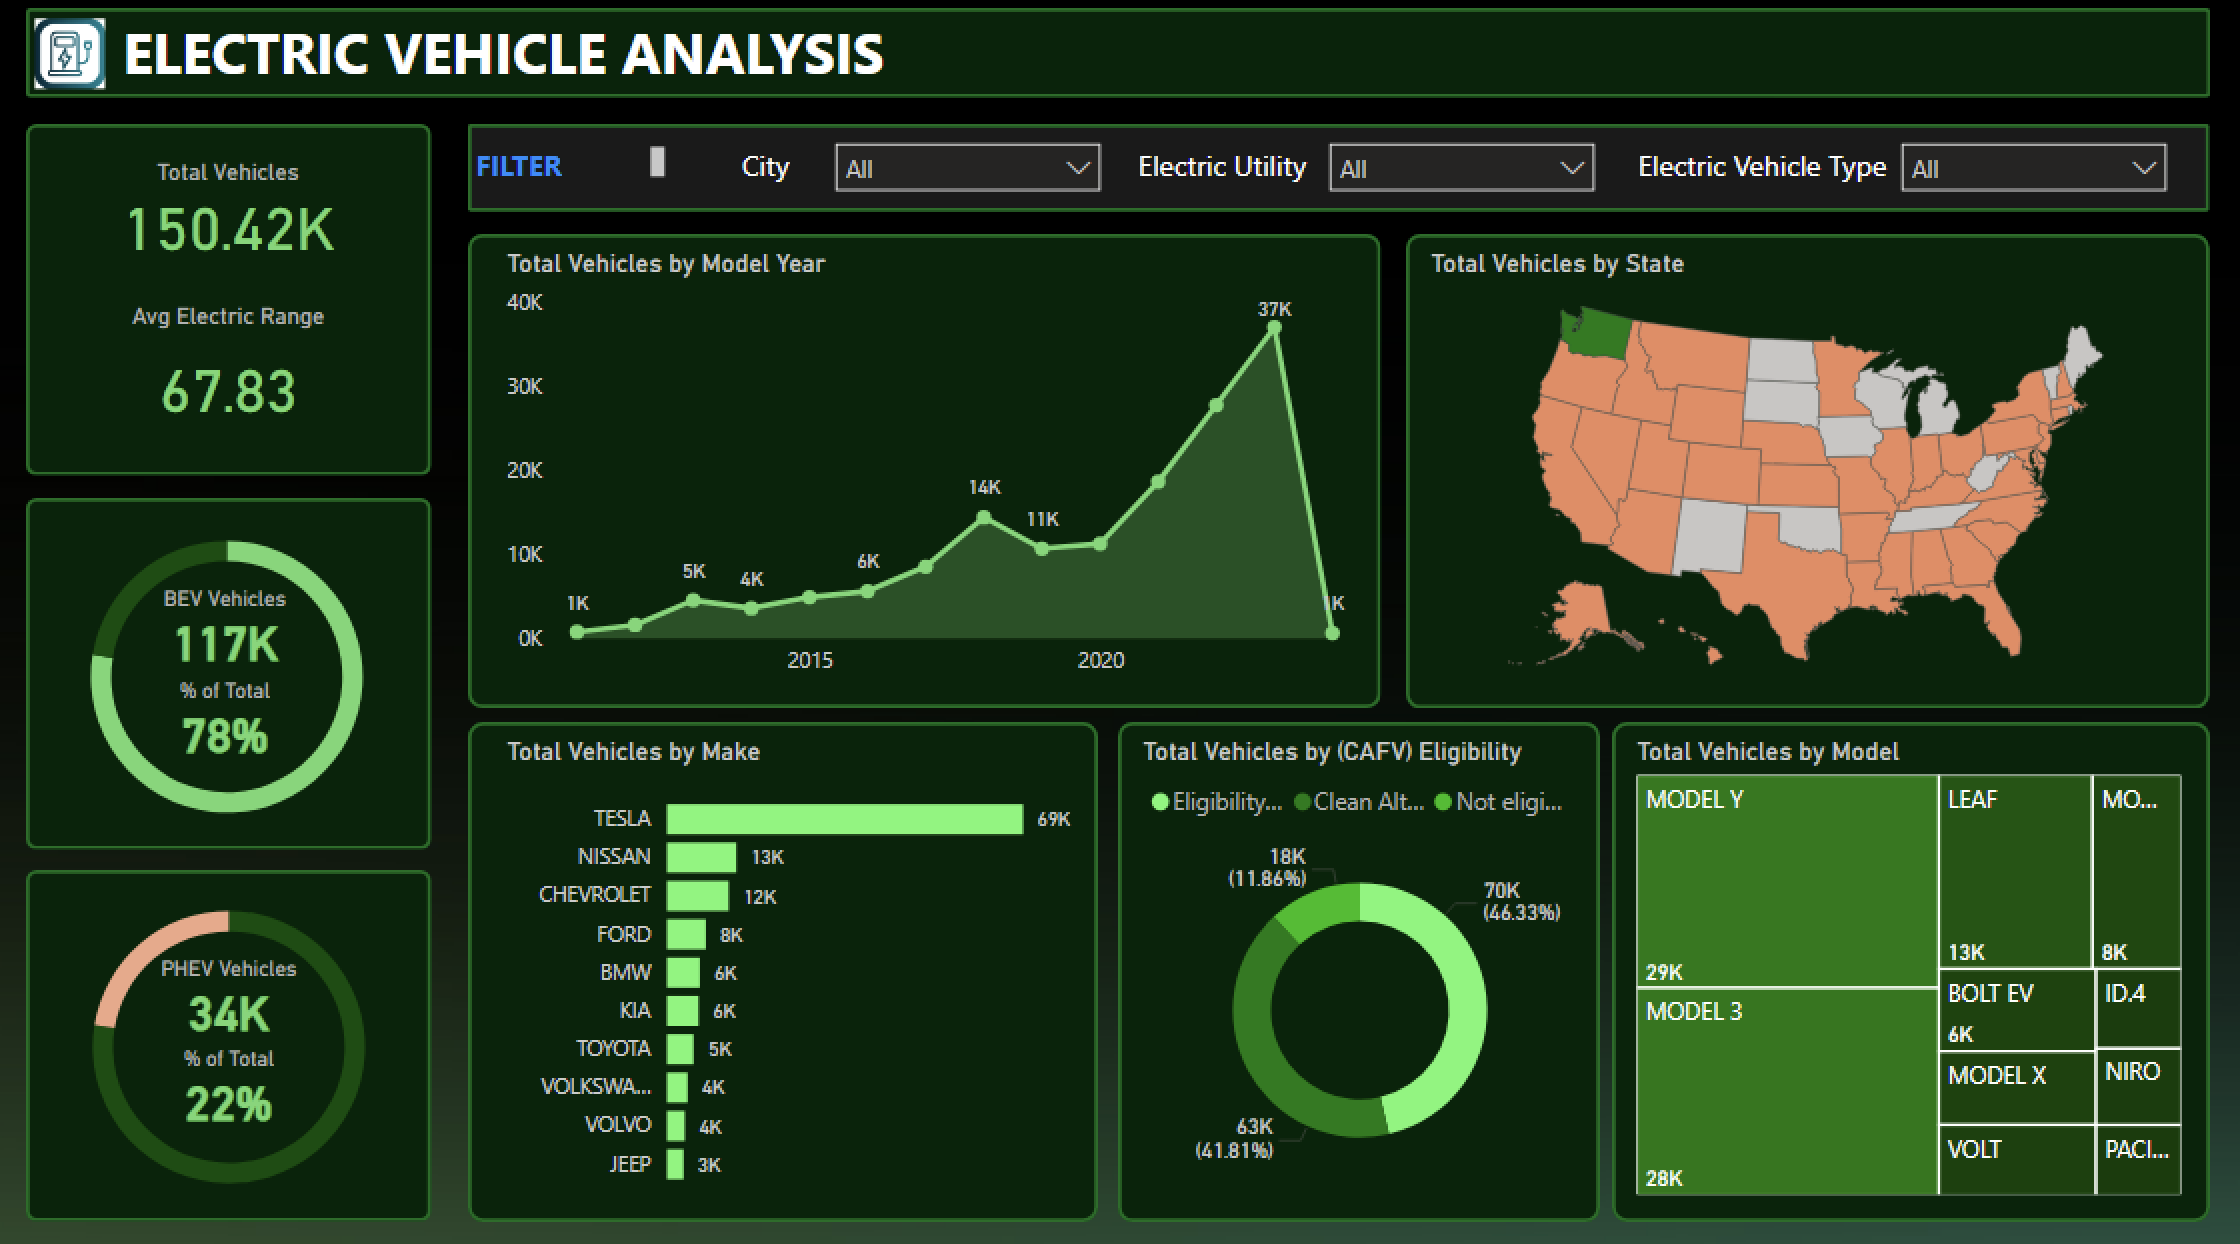

Layout of this report page (visuals, bound fields, positions):
{"tool":"powerbi","page":{"name":"Page 1","canvas":[1280,720],"ordinal":0},"visuals":[{"type":"shape","box":[17.8,10.2,1244.3,51],"z":0},{"type":"textbox","box":[68.4,8,453.4,57],"z":1000},{"type":"shape","box":[17.8,76.5,230.8,200.2],"z":2000},{"type":"card","title":"Total Vehicles","fields":{"Values":["Electric_Vehicle_Population_Data.Total Vehicles"]},"box":[30.6,95.6,205.3,61.2],"z":3000},{"type":"card","title":"Avg Electric Range","fields":{"Values":["Avg(Electric_Vehicle_Population_Data.Electric Range)"]},"box":[35.7,177.2,196.3,81.6],"z":4000},{"type":"shape","box":[17.8,289.4,230.8,200.2],"z":5000},{"type":"shape","box":[17.8,501,230.8,200.2],"z":6000},{"type":"donutChart","fields":{"Category":["Electric_Vehicle_Population_Data.Electric Vehicle Type"],"Y":["Electric_Vehicle_Population_Data.Total Vehicles"]},"box":[26,289.4,212.8,203.6],"z":7000},{"type":"card","title":"BEV Vehicles","fields":{"Values":["Electric_Vehicle_Population_Data.BEV Vehicles"]},"box":[68.8,339.1,126.2,51],"z":8000},{"type":"card","title":"% of Total","fields":{"Values":["Electric_Vehicle_Population_Data.% of BEV"]},"box":[68.8,391.4,126.2,51],"z":9000},{"type":"donutChart","fields":{"Category":["Electric_Vehicle_Population_Data.Electric Vehicle Type"],"Y":["Electric_Vehicle_Population_Data.Total Vehicles"]},"box":[26.8,499.8,212.9,204],"z":10000},{"type":"card","title":"PHEV Vehicles","fields":{"Values":["Electric_Vehicle_Population_Data.PHEV Vehicles"]},"box":[70.1,550.8,126.2,51],"z":11000},{"type":"card","title":"% of Total","fields":{"Values":["Electric_Vehicle_Population_Data.% of PHEV"]},"box":[70.1,601.8,126.2,51],"z":12000},{"type":"shape","box":[270.3,76.5,991.9,49.7],"z":13000},{"type":"shape","box":[270.3,139,520,270],"z":14000},{"type":"areaChart","fields":{"Category":["Electric_Vehicle_Population_Data.Model Year"],"Y":["Electric_Vehicle_Population_Data.Total Vehicles"]},"box":[286.9,147.9,493.4,252.4],"z":15000},{"type":"shape","box":[804.5,139,457.7,270.3],"z":16000},{"type":"shapeMap","title":"Total Vehicles by State","fields":{"Category":["Electric_Vehicle_Population_Data.State"],"Value":["Electric_Vehicle_Population_Data.Total Vehicles"]},"box":[813.4,147.9,437.3,252.4],"z":17000},{"type":"shape","box":[270,417,358.9,284.8],"z":18000},{"type":"barChart","fields":{"Category":["Electric_Vehicle_Population_Data.Make"],"Y":["Electric_Vehicle_Population_Data.Total Vehicles"]},"box":[287.1,426.1,331.5,265.4],"z":19000},{"type":"shape","box":[640.3,417,274.6,284.8],"z":20000},{"type":"donutChart","title":"Total Vehicles by (CAFV) Eligibility","fields":{"Category":["Electric_Vehicle_Population_Data.Clean Alternative Fuel Vehicle (CAFV) Eligibility"],"Y":["Electric_Vehicle_Population_Data.Total Vehicles"]},"box":[649.4,426.1,257.5,265.4],"z":21000},{"type":"shape","box":[921.6,417,340.6,284.8],"z":22000},{"type":"treemap","fields":{"Group":["Electric_Vehicle_Population_Data.Model"],"Values":["Electric_Vehicle_Population_Data.Total Vehicles"]},"box":[930.8,426.1,320.1,265.4],"z":23000},{"type":"textbox","box":[270.3,84.1,117.3,34.4],"z":24000},{"type":"slicer","fields":{"Values":["Electric_Vehicle_Population_Data.City"]},"box":[469.2,77.8,170.8,48.4],"z":25000},{"type":"textbox","box":[410.5,84.1,58.6,34.4],"z":26000},{"type":"slicer","fields":{"Values":["Electric_Vehicle_Population_Data.Electric Utility"]},"box":[750.9,77.8,170.8,48.4],"z":27000},{"type":"textbox","box":[640,84.1,118.6,34.4],"z":28000},{"type":"slicer","fields":{"Values":["Electric_Vehicle_Population_Data.Electric Vehicle Type"]},"box":[1077.1,77.6,170.8,48.4],"z":29000},{"type":"textbox","box":[915.4,84.1,184.9,34.4],"z":30000},{"type":"image","box":[18.2,10.3,50.1,51.3],"z":31000}]}

Visuals, with their boxes in screenshot pixels (x1, y1, x2, y2), scaled from the page's 1280x720 canvas onto the 2240x1244 screenshot:
shape: <box>31,18,2209,106</box>
textbox: <box>120,14,913,112</box>
shape: <box>31,132,435,478</box>
"Total Vehicles" card: <box>54,165,413,271</box>
"Avg Electric Range" card: <box>62,306,406,447</box>
shape: <box>31,500,435,846</box>
shape: <box>31,866,435,1212</box>
donutChart - Electric_Vehicle_Population_Data.Electric Vehicle Type x Electric_Vehicle_Population_Data.Total Vehicles: <box>46,500,418,852</box>
"BEV Vehicles" card: <box>120,586,341,674</box>
"% of Total" card: <box>120,676,341,764</box>
donutChart - Electric_Vehicle_Population_Data.Electric Vehicle Type x Electric_Vehicle_Population_Data.Total Vehicles: <box>47,864,419,1216</box>
"PHEV Vehicles" card: <box>123,952,344,1040</box>
"% of Total" card: <box>123,1040,344,1128</box>
shape: <box>473,132,2209,218</box>
shape: <box>473,240,1383,707</box>
areaChart - Electric_Vehicle_Population_Data.Model Year x Electric_Vehicle_Population_Data.Total Vehicles: <box>502,256,1366,692</box>
shape: <box>1408,240,2209,707</box>
"Total Vehicles by State" shapeMap: <box>1423,256,2189,692</box>
shape: <box>472,720,1101,1213</box>
barChart - Electric_Vehicle_Population_Data.Make x Electric_Vehicle_Population_Data.Total Vehicles: <box>502,736,1083,1195</box>
shape: <box>1121,720,1601,1213</box>
"Total Vehicles by (CAFV) Eligibility" donutChart: <box>1136,736,1587,1195</box>
shape: <box>1613,720,2209,1213</box>
treemap - Electric_Vehicle_Population_Data.Model x Electric_Vehicle_Population_Data.Total Vehicles: <box>1629,736,2189,1195</box>
textbox: <box>473,145,678,205</box>
slicer - Electric_Vehicle_Population_Data.City: <box>821,134,1120,218</box>
textbox: <box>718,145,821,205</box>
slicer - Electric_Vehicle_Population_Data.Electric Utility: <box>1314,134,1613,218</box>
textbox: <box>1120,145,1328,205</box>
slicer - Electric_Vehicle_Population_Data.Electric Vehicle Type: <box>1885,134,2184,218</box>
textbox: <box>1602,145,1926,205</box>
image: <box>32,18,120,106</box>
